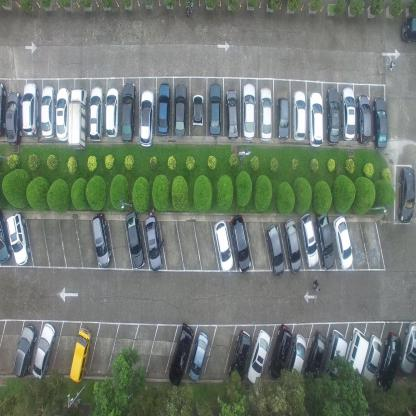car: (169, 321, 194, 386), (322, 327, 348, 388), (376, 332, 402, 390), (269, 323, 294, 381), (247, 327, 271, 386), (33, 322, 57, 381), (229, 329, 253, 387), (13, 323, 38, 378), (344, 328, 369, 383), (69, 327, 93, 384), (6, 213, 31, 267), (315, 208, 336, 270), (286, 332, 308, 390), (305, 329, 328, 384), (231, 214, 252, 274), (125, 210, 146, 270), (68, 87, 88, 150), (92, 213, 113, 268), (188, 330, 210, 382), (213, 218, 233, 274), (300, 213, 320, 268), (333, 214, 353, 269), (360, 335, 382, 384), (284, 217, 302, 274), (22, 82, 40, 138), (266, 224, 285, 276), (398, 166, 415, 224), (145, 216, 162, 272), (6, 91, 23, 147), (139, 89, 155, 148), (308, 91, 324, 148), (122, 81, 136, 143), (400, 322, 416, 375), (173, 82, 188, 138), (41, 84, 56, 140), (326, 87, 340, 146), (90, 86, 104, 144), (157, 82, 172, 136), (373, 97, 388, 150), (56, 86, 70, 142), (341, 86, 355, 142), (105, 86, 120, 138), (242, 82, 255, 141), (357, 94, 372, 144), (293, 89, 307, 142), (225, 89, 239, 140), (208, 84, 221, 137), (0, 209, 12, 265), (260, 86, 272, 140), (276, 96, 290, 140), (192, 94, 204, 127), (402, 16, 416, 44), (0, 81, 6, 137)
